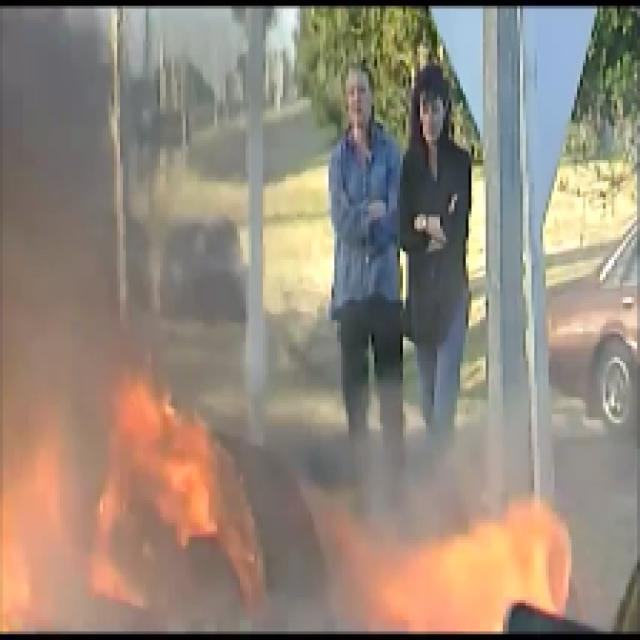Fire: (6, 357, 234, 640), (348, 485, 580, 640)
Smoke: (2, 2, 134, 354)
